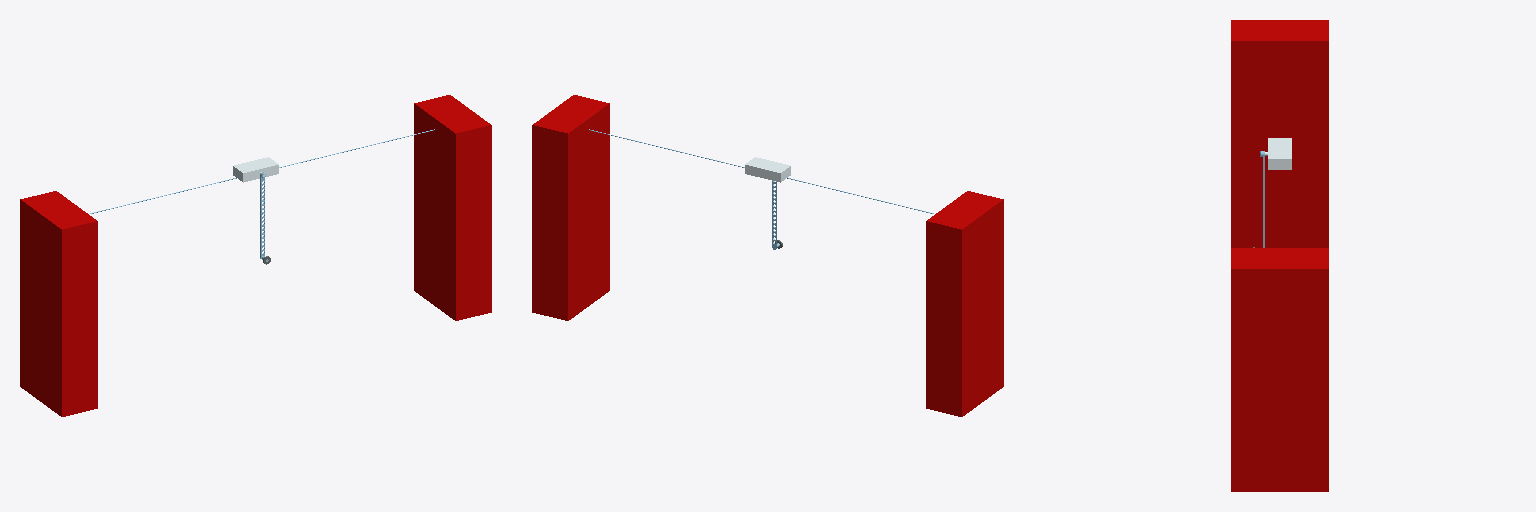
robot.urdf — cartpole_robot:
<robot name="cartpole_robot">
    <link name="rail">
        <visual>
            <origin xyz="0.498292 0.0949833 0.468696" rpy="0 -0 -2.77556e-16" />
            <geometry>
            <mesh filename="meshes/rail.stl"/>
            </geometry>
            <material name="rail_material">
            <color rgba="0.615686 0.811765 0.929412 1.0"/>
            </material>
        </visual>
        <collision>
            <origin xyz="0.498292 0.0949833 0.468696" rpy="0 -0 -2.77556e-16" />
            <geometry>
            <mesh filename="meshes/rail.stl"/>
            </geometry>
            <material name="rail_material">
            <color rgba="0.615686 0.811765 0.929412 1.0"/>
            </material>
        </collision>
        <visual>
            <origin xyz="1.09729 0.0949833 0.248696" rpy="0 -0 3.14159" />
            <geometry>
            <mesh filename="meshes/stand.stl"/>
            </geometry>
            <material name="stand_material">
            <color rgba="0.815686 0.054902 0.0431373 1.0"/>
            </material>
        </visual>
        <visual>
            <origin xyz="-0.100708 0.0949833 0.248696" rpy="0 -0 -2.77556e-16" />
            <geometry>
            <mesh filename="meshes/stand.stl"/>
            </geometry>
            <material name="stand_material">
            <color rgba="0.815686 0.054902 0.0431373 1.0"/>
            </material>
        </visual>
        <inertial>
            <mass value="0"/>
            <inertia ixx="1.0" ixy="0.0" ixz="0.0" iyy="1.0" iyz="0.0" izz="1.0"/>
        </inertial>
    </link>

    <link name="cart">
        <visual>
            <origin xyz="1.38778e-17 0.00289099 0" rpy="1.5708 1.5708 0" />
            <geometry>
            <mesh filename="meshes/cart.stl"/>
            </geometry>
            <material name="cart_material">
            <color rgba="0.937255 0.988235 1 1.0"/>
            </material>
        </visual>
        <collision>
            <origin xyz="1.38778e-17 0.00289099 0" rpy="1.5708 1.5708 0" />
            <geometry>
            <mesh filename="meshes/cart.stl"/>
            </geometry>
            <material name="cart_material">
            <color rgba="0.937255 0.988235 1 1.0"/>
            </material>
        </collision>
        <inertial>
            <mass value="1"/>
            <inertia ixx="1.0" ixy="0.0" ixz="0.0" iyy="1.0" iyz="0.0" izz="1.0"/>
        </inertial>
    </link>

    <link name="pole">
        <visual>
            <origin xyz="-5.55112e-17 0.22 0.01" rpy="-1.5708 -0 3.14159" />
            <geometry>
            <mesh filename="meshes/weight.stl"/>
            </geometry>
            <material name="weight_material">
            <color rgba="0.470588 0.47451 0.47451 1.0"/>
            </material>
        </visual>
        <collision>
            <origin xyz="-5.55112e-17 0.22 0.01" rpy="-1.5708 -0 3.14159" />
            <geometry>
            <mesh filename="meshes/weight.stl"/>
            </geometry>
            <material name="weight_material">
            <color rgba="0.470588 0.47451 0.47451 1.0"/>
            </material>
        </collision>
        <visual>
            <origin xyz="-0.006 -5.55112e-17 -0.009" rpy="-1.5708 -0 0" />
            <geometry>
            <mesh filename="meshes/pole.stl"/>
            </geometry>
            <material name="pole_material">
            <color rgba="0.615686 0.811765 0.929412 1.0"/>
            </material>
        </visual>
        <collision>
            <origin xyz="-0.006 -5.55112e-17 -0.009" rpy="-1.5708 -0 0" />
            <geometry>
            <mesh filename="meshes/pole.stl"/>
            </geometry>
            <material name="pole_material">
            <color rgba="0.615686 0.811765 0.929412 1.0"/>
            </material>
        </collision>
        <inertial>
            <origin xyz="0.0 0.22 0.0" rpy="-1.5708 -0 3.14159" />
            <mass value="1"/>
            <inertia ixx="1.0" ixy="0.0" ixz="0.0" iyy="1.0" iyz="0.0" izz="1.0"/>
        </inertial>
    </link>

    <joint name="revolute_pole" type="revolute">
        <origin xyz="-0.04 -0.00960901 0" rpy="-0 -1.5708 0" />
        <parent link="cart" />
        <child link="pole" />
        <axis xyz="0 0 1"/>
        <limit effort="100" velocity="20" />
        <joint_properties friction="10.0"/>
    </joint>

    <joint name="slider_cart" type="prismatic">
        <origin xyz="0.498292 0.0949833 0.468696" rpy="-1.5708 -0 1.5708" />
        <parent link="rail" />
        <child link="cart" />
        <axis xyz="0 0 1"/>
        <limit effort="100" velocity="20" lower="-0.42" upper="0.42"/>
        <joint_properties friction="20.0"/>
    </joint>


</robot>

--- What the picture shows (computed from the rendered views, not written in the file) ---
The picture shows the robot from 3 angles, left to right: view 1: azimuth 30°, elevation 25°; view 2: azimuth 150°, elevation 25°; view 3: azimuth 270°, elevation 25°; orthographic projection.
Robot: cartpole_robot — 3 links, 2 joints (1 revolute, 1 prismatic); root link rail; default pose: all joints at 0.
Links seen in each view (by area): view 1: rail, cart; view 2: rail, cart; view 3: rail, cart.
Link boxes in pixels (x1=…): rail: x1=20, y1=95, x2=491, y2=416; cart: x1=233, y1=157, x2=278, y2=182; rail: x1=532, y1=95, x2=1003, y2=416; cart: x1=745, y1=157, x2=790, y2=182; rail: x1=1231, y1=20, x2=1328, y2=491; cart: x1=1265, y1=138, x2=1291, y2=169.
Size in the robot's own frame: 1.2 by 0.2 by 0.5 metres.
Meshes: 5 distinct files referenced, 6 mesh visuals loaded (5 binary STL).